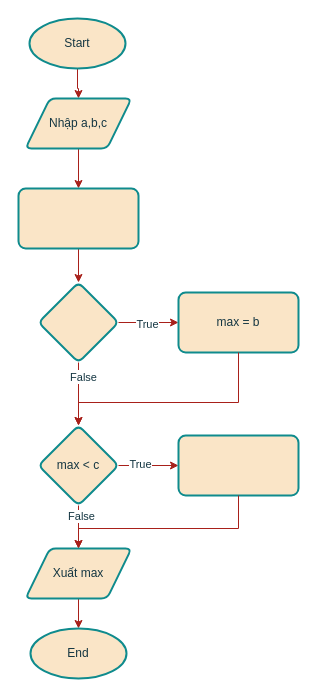
Image size: 316x696. Some labels were removed from this diagram. Each missing label, with the box of its shape:
max < b: (37, 281, 119, 363)
max = a: (17, 187, 139, 249)
max = c: (177, 434, 299, 496)
